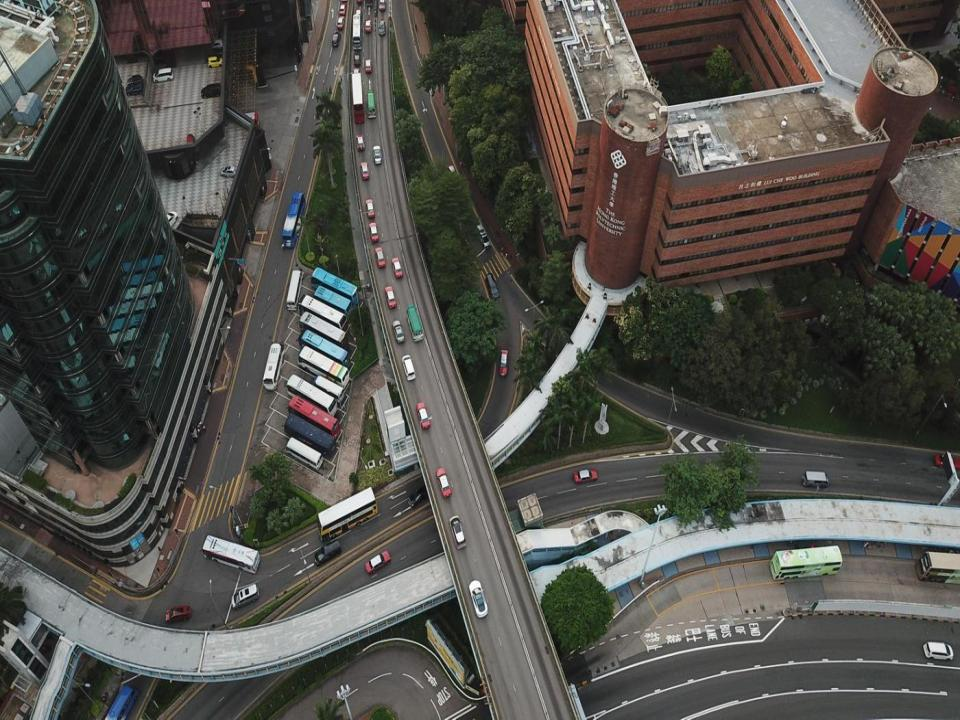bus: (316, 486, 378, 541), (295, 328, 351, 375), (294, 344, 350, 390), (769, 545, 842, 579), (296, 310, 349, 356), (286, 395, 340, 439), (284, 374, 338, 418), (282, 413, 335, 457), (203, 534, 260, 574), (296, 294, 348, 334), (308, 267, 359, 306), (915, 550, 960, 585), (313, 284, 352, 322), (281, 191, 306, 248), (285, 436, 323, 470), (103, 684, 138, 719), (222, 112, 261, 138), (263, 342, 284, 390), (312, 374, 344, 403), (286, 270, 303, 310), (351, 72, 364, 124), (406, 304, 422, 342), (353, 14, 362, 50), (366, 89, 376, 118)
car: (468, 580, 488, 617), (365, 550, 391, 574), (933, 452, 960, 471), (436, 467, 452, 498), (573, 468, 598, 483), (417, 402, 431, 428), (160, 210, 178, 230), (154, 50, 176, 65), (392, 320, 404, 342), (499, 348, 508, 377), (125, 81, 142, 96), (446, 162, 458, 182), (386, 286, 396, 309), (219, 166, 238, 178), (374, 247, 385, 267), (391, 258, 402, 278), (208, 55, 224, 68), (365, 198, 375, 218), (372, 146, 382, 165), (360, 162, 370, 180), (369, 221, 378, 241), (356, 132, 365, 151), (206, 46, 222, 56), (209, 38, 222, 50), (337, 16, 345, 30), (364, 59, 372, 73), (352, 68, 360, 82), (378, 20, 384, 36), (365, 18, 371, 32), (340, 2, 346, 14), (356, 8, 362, 19), (380, 0, 386, 11)
van: (314, 540, 341, 566), (231, 584, 259, 609), (923, 642, 954, 660), (449, 516, 466, 548), (408, 485, 430, 509), (164, 605, 191, 624), (802, 470, 828, 488), (486, 273, 499, 302), (402, 355, 416, 381), (477, 224, 490, 248), (152, 68, 173, 82), (200, 83, 221, 97), (126, 74, 142, 86), (332, 32, 341, 46), (355, 54, 360, 65)
